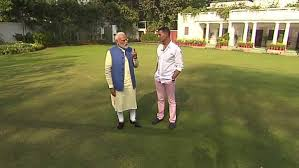Caution: (101, 24, 185, 133)
